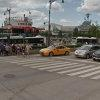Crosswalk: (9, 49, 96, 84)
